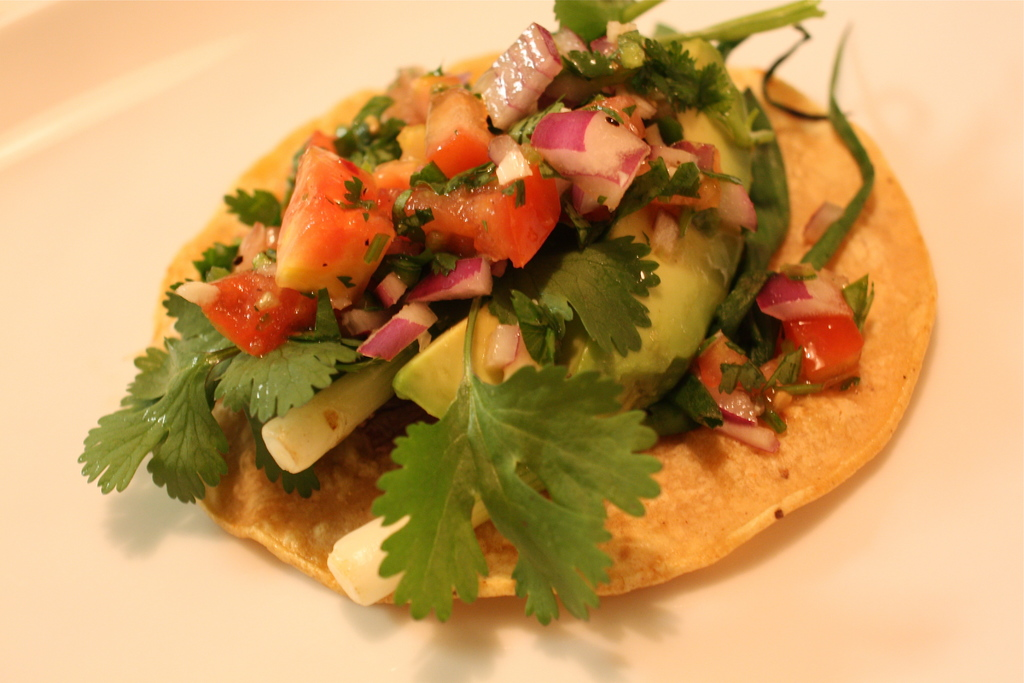salad: (54, 0, 888, 635)
